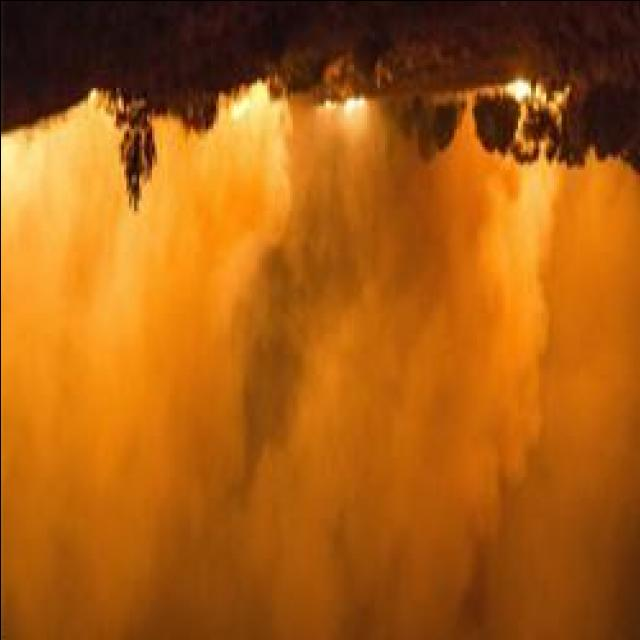fire: (220, 76, 278, 129)
smoke: (252, 350, 479, 630), (462, 166, 556, 356), (0, 120, 93, 283), (202, 122, 291, 246)
